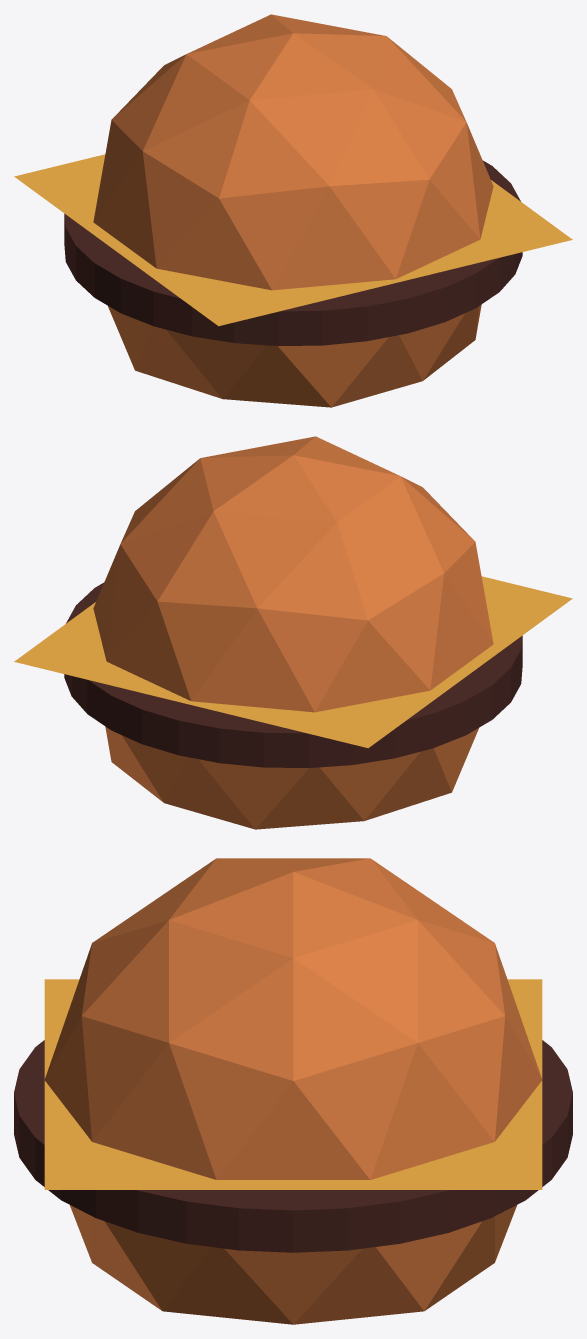
Rendered from Cheese Burger.fbx.
3 renders of one model, top to bottom at view 1: azimuth 30°, elevation 25°; view 2: azimuth 150°, elevation 25°; view 3: azimuth 270°, elevation 25°, orthographic. The views are drawn at different scales.
Parts seen in each view (by area): view 1: Circle; view 2: Circle; view 3: Circle.
Part boxes in pixels (left/top/right/bottom): Circle: left=14, top=14, right=572, bottom=407; Circle: left=14, top=436, right=572, bottom=829; Circle: left=14, top=858, right=572, bottom=1324.
Bounding box in the file's own units: 73.83 × 73.83 × 52.95.
